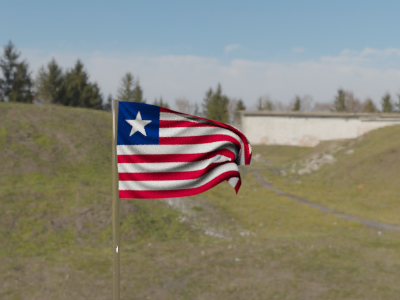Liberia flag: (115, 101, 256, 202)
